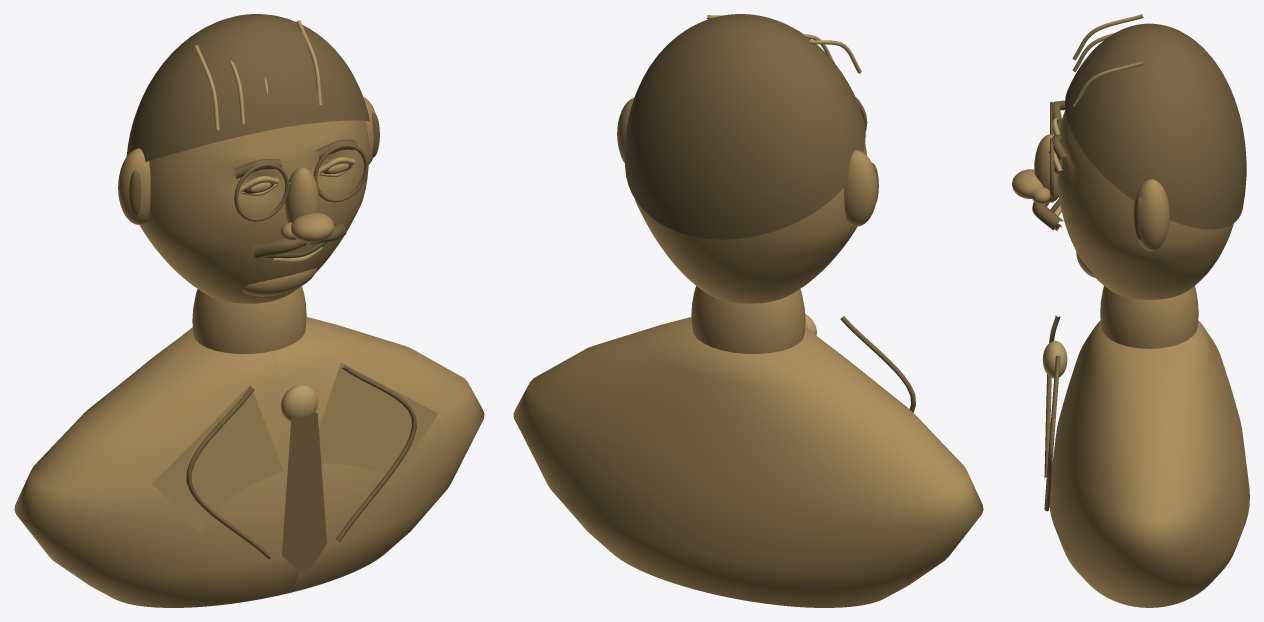
Rendered from janio.glb.
The picture shows the model from 3 angles, left to right: view 1: azimuth 30°, elevation 25°; view 2: azimuth 150°, elevation 25°; view 3: azimuth 270°, elevation 25°; orthographic projection. The views are drawn at different scales.
Visible parts, largest first — view 1: janio; view 2: janio; view 3: janio.
Part boxes in pixels (box(x1,y1,x2,y2)): janio: box(14, 14, 484, 607); janio: box(513, 14, 983, 607); janio: box(1012, 14, 1249, 607).
Bounding box in the file's own units: 1.22 × 1.37 × 0.58.
